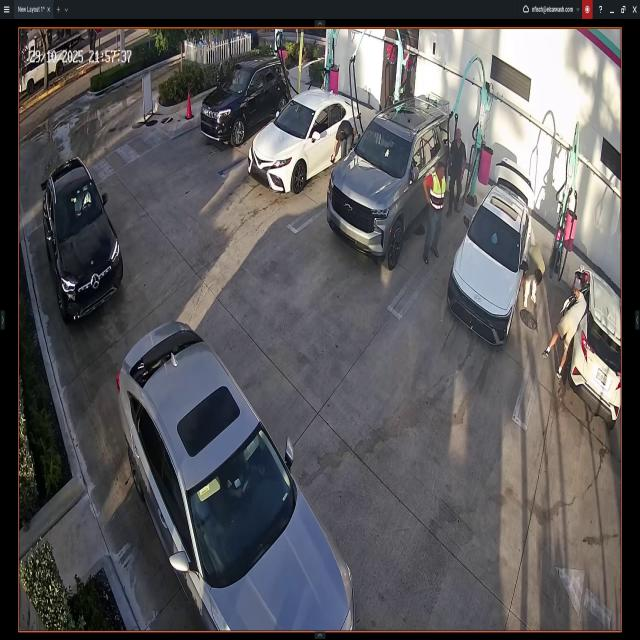Car: (116, 315, 355, 631), (331, 93, 451, 276), (445, 153, 535, 344), (40, 157, 121, 319), (246, 90, 361, 189), (558, 259, 622, 426), (198, 58, 288, 152)
